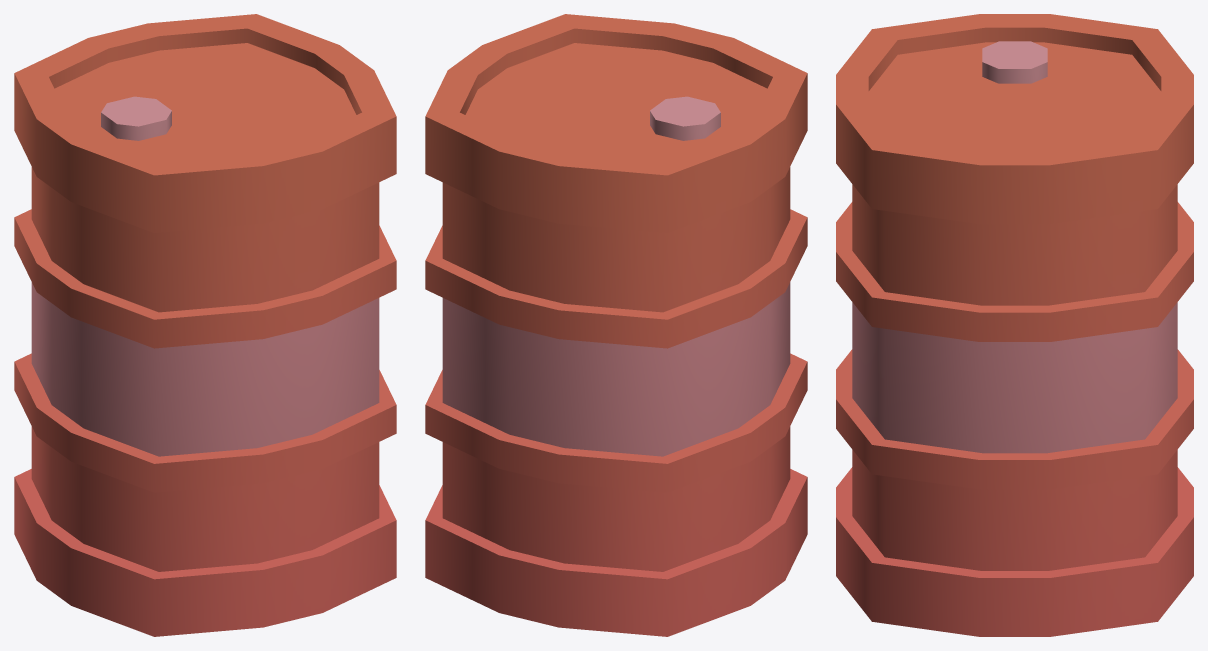
File: gas_can.glb
The picture shows the model from 3 angles, left to right: view 1: azimuth 30°, elevation 25°; view 2: azimuth 150°, elevation 25°; view 3: azimuth 270°, elevation 25°; orthographic projection. The views are drawn at different scales.
Parts seen in each view (by area): view 1: gas_can; view 2: gas_can; view 3: gas_can.
Boxes of the visible parts, x1,y1,x2,y2 form: gas_can: (14, 14, 396, 636); gas_can: (425, 14, 807, 636); gas_can: (836, 14, 1193, 636).
Bounding box in the file's own units: 13.75 × 20 × 13.75.
